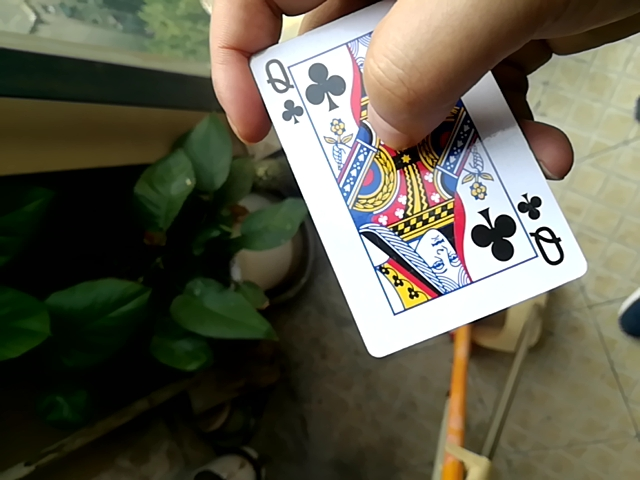mh q: (234, 8, 590, 368)
